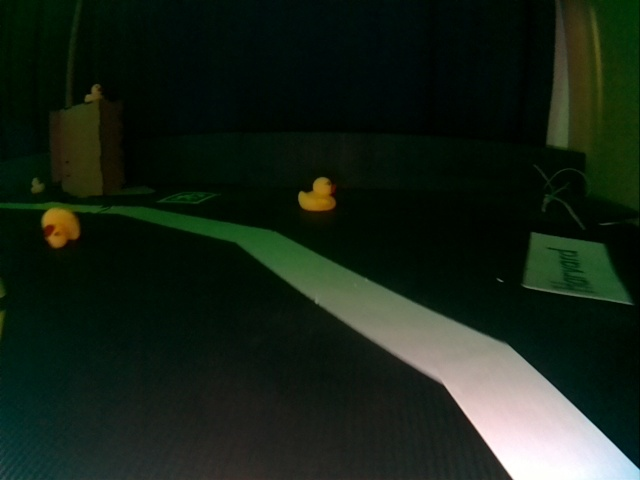Duckie: (42, 207, 78, 248), (298, 178, 336, 211), (85, 84, 102, 102), (30, 179, 45, 194)
QR code: (161, 190, 216, 203)
